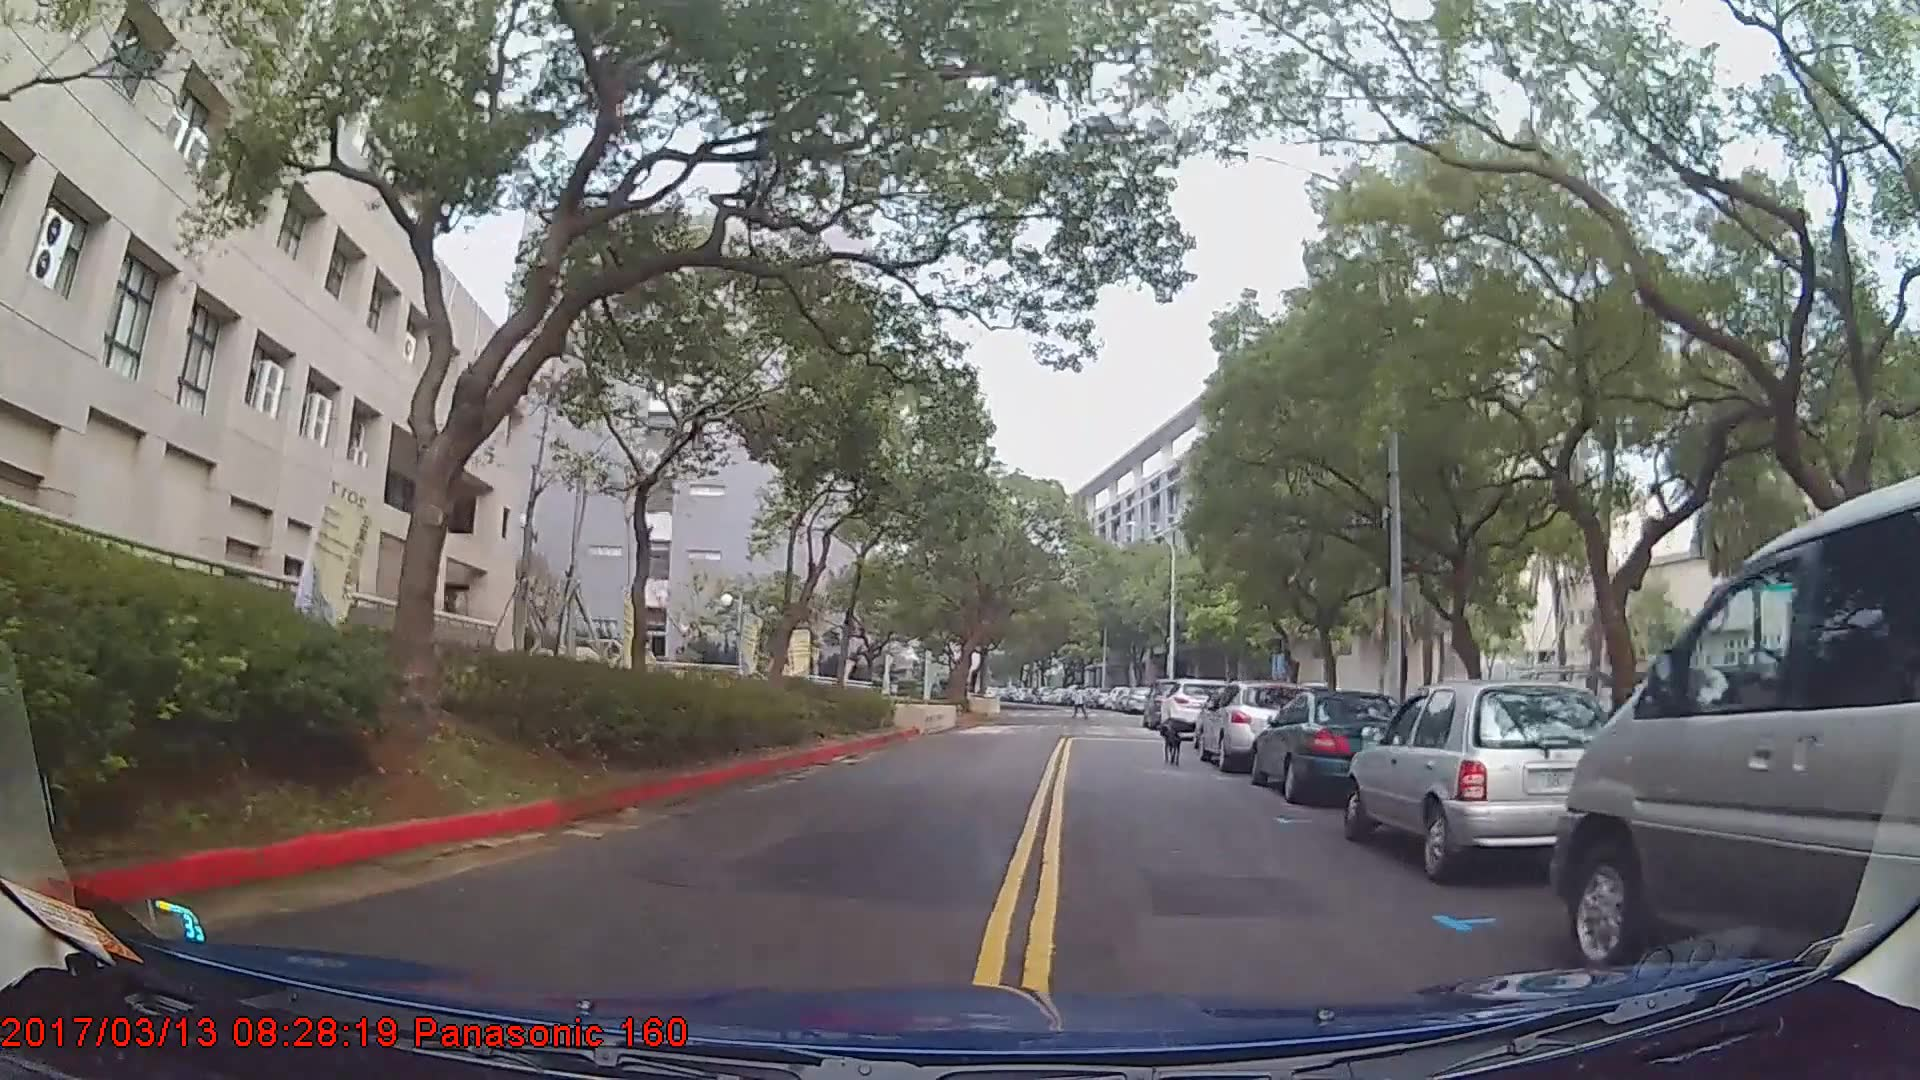vehicle: (1549, 471, 1920, 978), (1348, 680, 1635, 881), (1247, 686, 1414, 804), (1196, 676, 1308, 770), (1160, 675, 1232, 736)
